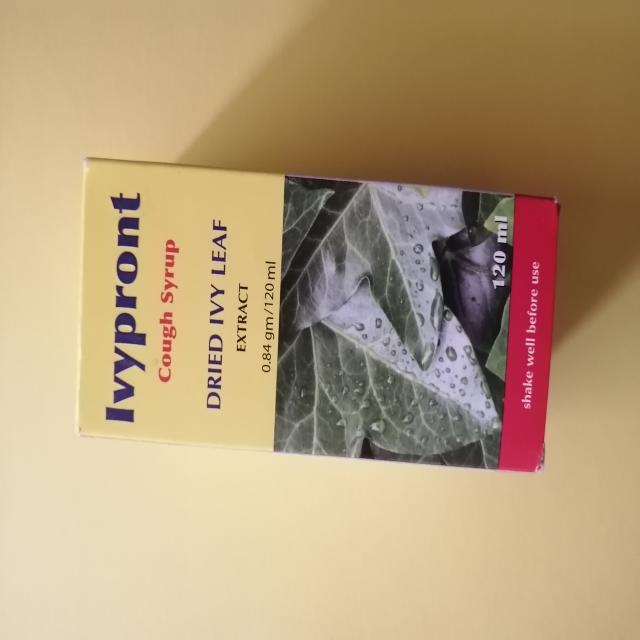Medicine: (72, 150, 563, 477)
